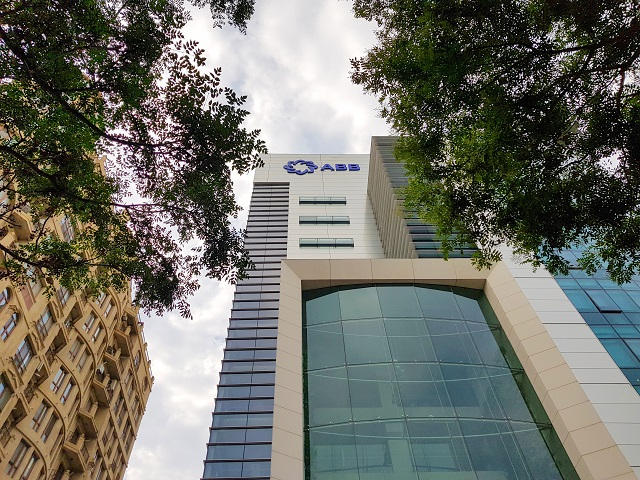ABB: (283, 158, 319, 175)
